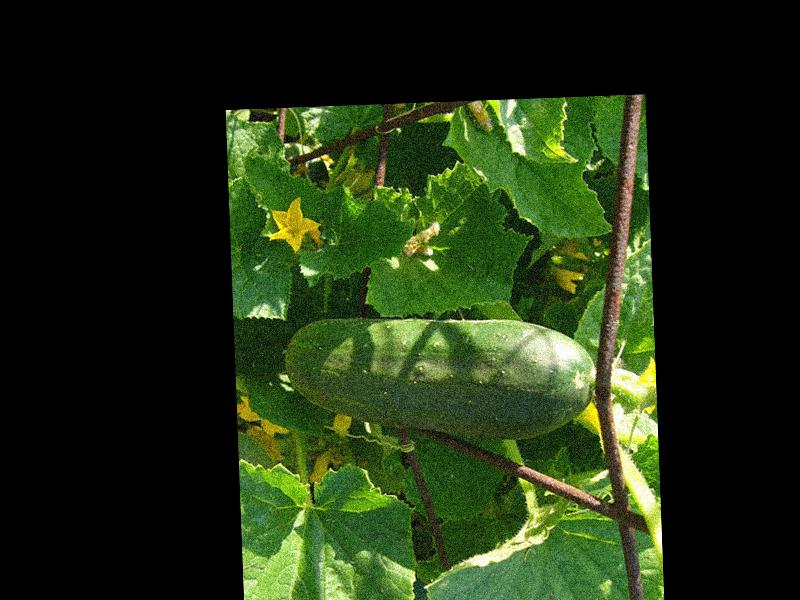Cucumber: (282, 308, 597, 451)
